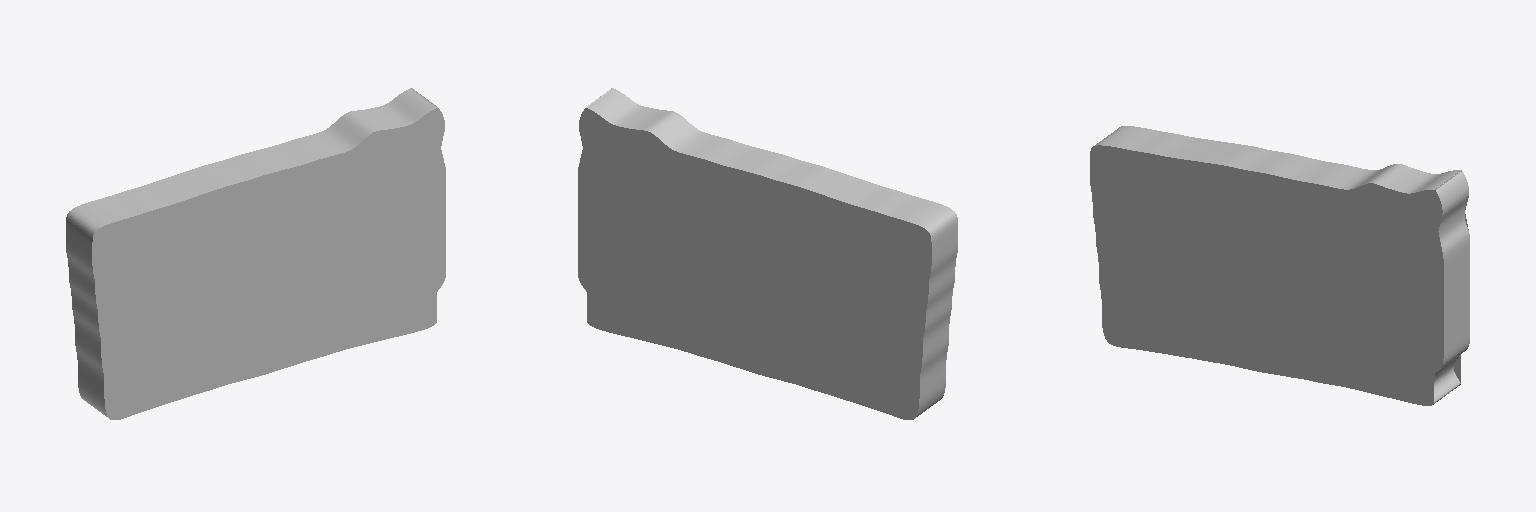
3 views of the same model, side by side, from view 1: azimuth 30°, elevation 25°; view 2: azimuth 150°, elevation 25°; view 3: azimuth 330°, elevation 25° (orthographic).
Parts seen in each view (by area): view 1: 平面; view 2: 平面; view 3: 平面.
Part boxes in pixels (x1,y1,x2,y2): 平面: (66, 88, 445, 419); 平面: (578, 88, 957, 419); 平面: (1090, 126, 1469, 405).
Size of the model in its own units: 1.53 by 0.97 by 0.2.